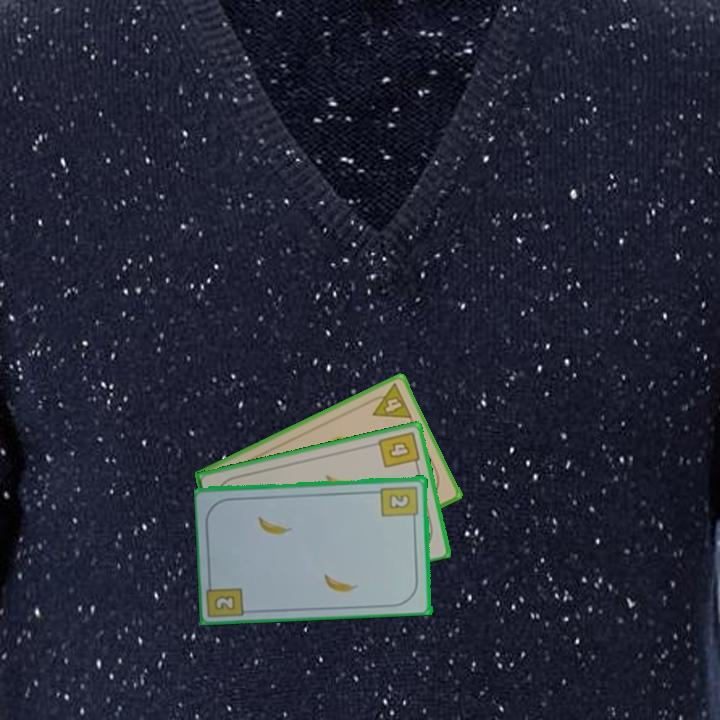2b: (378, 482, 421, 524), (211, 592, 239, 613)
4b: (375, 427, 422, 471)
4p: (363, 380, 415, 422)
